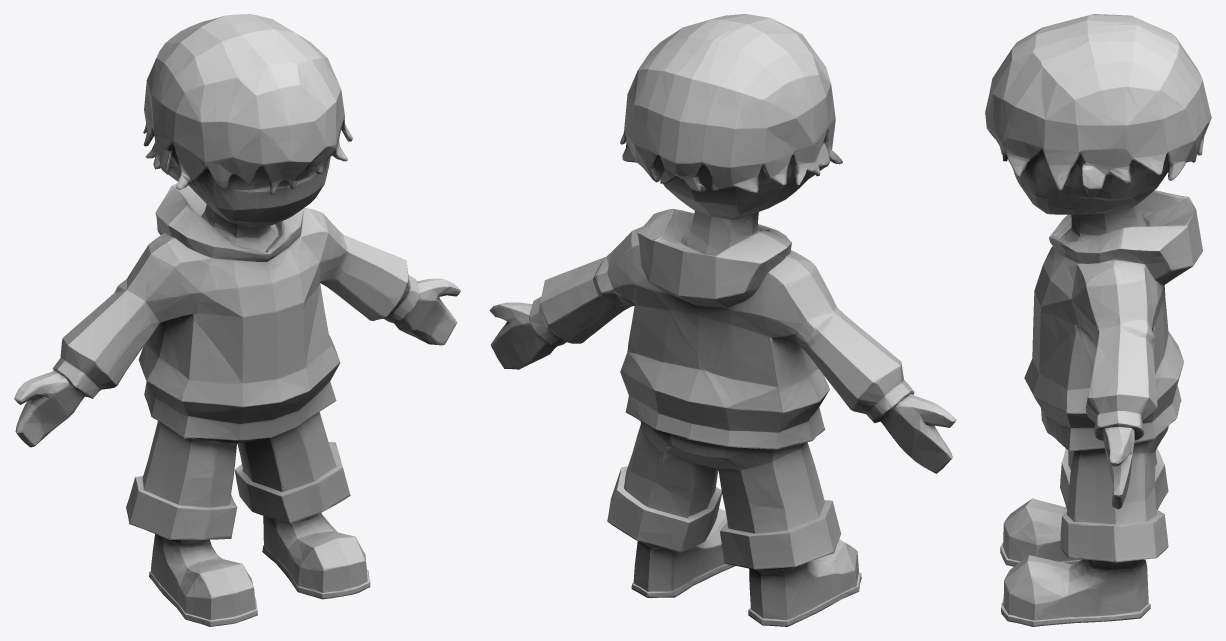
File: src.glb
3 renders of one model, left to right at view 1: azimuth 30°, elevation 25°; view 2: azimuth 150°, elevation 25°; view 3: azimuth 270°, elevation 25°, orthographic. The views are drawn at different scales.
Visible parts, largest first — view 1: world; view 2: world; view 3: world.
Boxes of the visible parts, x1=… form: world: x1=14, y1=14, x2=460, y2=626; world: x1=489, y1=14, x2=956, y2=626; world: x1=985, y1=14, x2=1211, y2=626.
Size of the model in its own units: 0.8581 by 0.9996 by 0.3691.
1 material, 1 textured.
